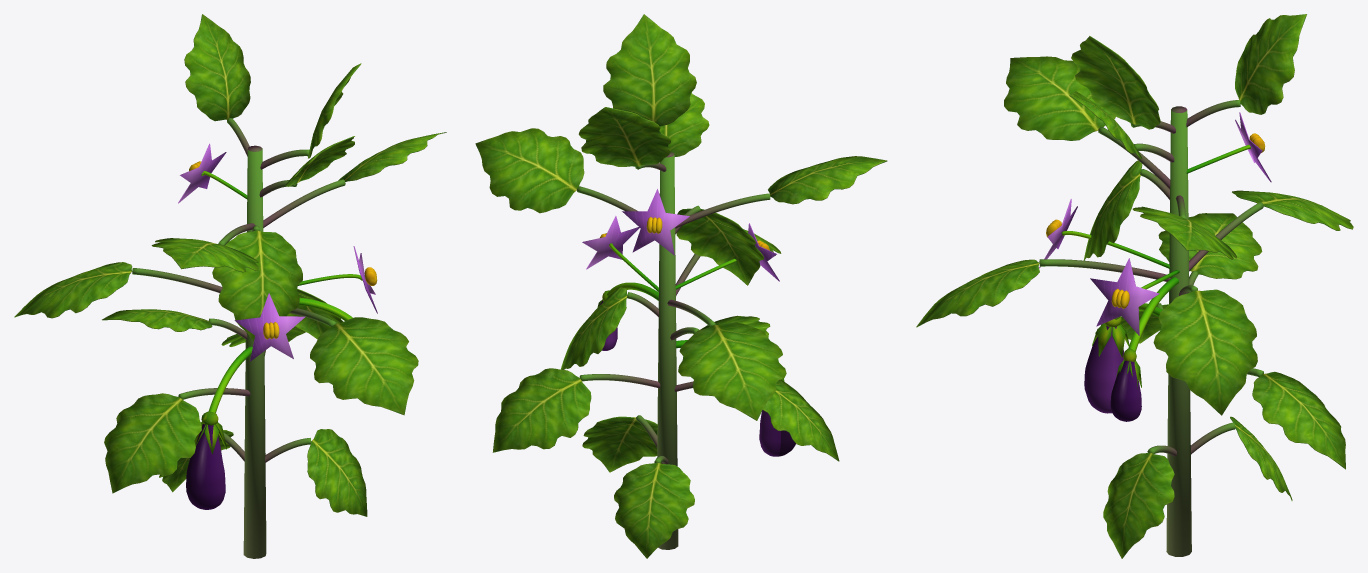
Rendered from NP_Eggplant_Flowering.fbx.
3 views of the same model, side by side, from view 1: azimuth 30°, elevation 25°; view 2: azimuth 150°, elevation 25°; view 3: azimuth 270°, elevation 25° (orthographic). The views are drawn at different scales.
Visible parts, largest first — view 1: NP_Eggplant_Flowering; view 2: NP_Eggplant_Flowering; view 3: NP_Eggplant_Flowering.
Boxes of the visible parts, x1,y1,x2,y2 form: NP_Eggplant_Flowering: (14,14,446,558); NP_Eggplant_Flowering: (475,14,887,558); NP_Eggplant_Flowering: (916,14,1353,558).
Bounding box in the file's own units: 86.21 × 115 × 82.67.
